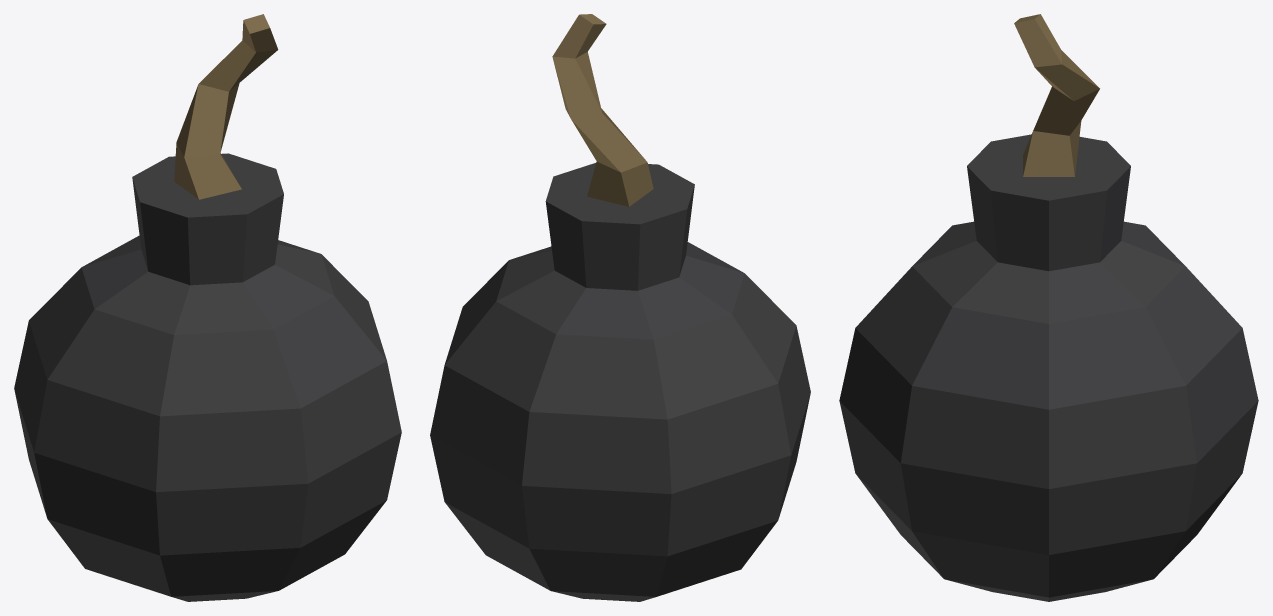
The model's file is SM_Item_Bomb_01.glb.
3 renders of one model, left to right at view 1: azimuth 30°, elevation 25°; view 2: azimuth 150°, elevation 25°; view 3: azimuth 270°, elevation 25°, orthographic. The views are drawn at different scales.
Parts seen in each view (by area): view 1: SM_Item_Bomb_01; view 2: SM_Item_Bomb_01; view 3: SM_Item_Bomb_01.
Part boxes in pixels (x1,y1,x2,y2): SM_Item_Bomb_01: (14,14,401,601); SM_Item_Bomb_01: (430,14,810,601); SM_Item_Bomb_01: (839,14,1258,601).
Bounding box in the file's own units: 0.00139 × 0.0021 × 0.00139.
